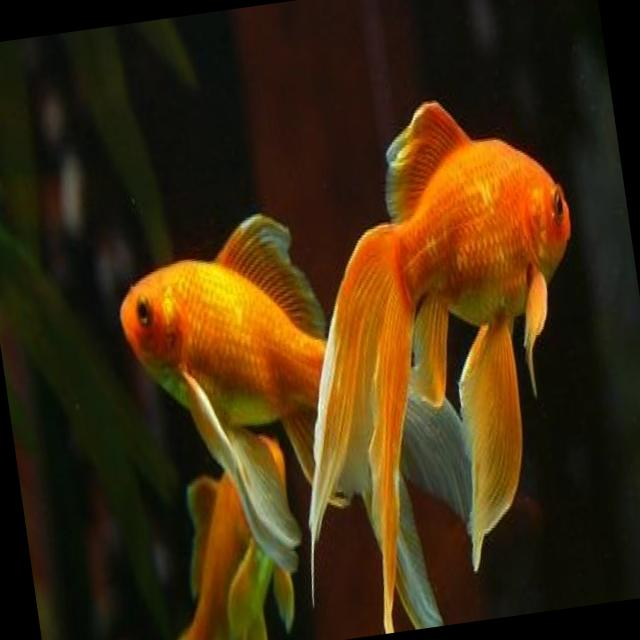GoldFish: (240, 69, 630, 640), (98, 186, 495, 640)
